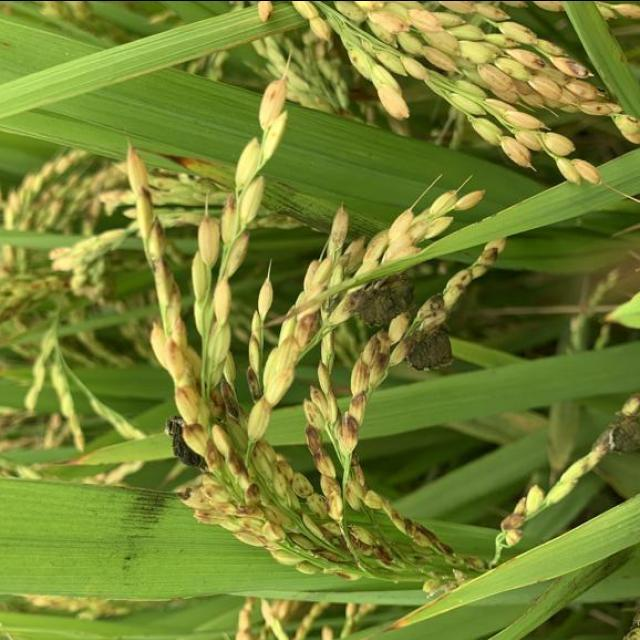Leaf_Scald: (344, 265, 414, 331), (399, 319, 455, 377), (162, 415, 208, 470), (601, 414, 640, 457)
